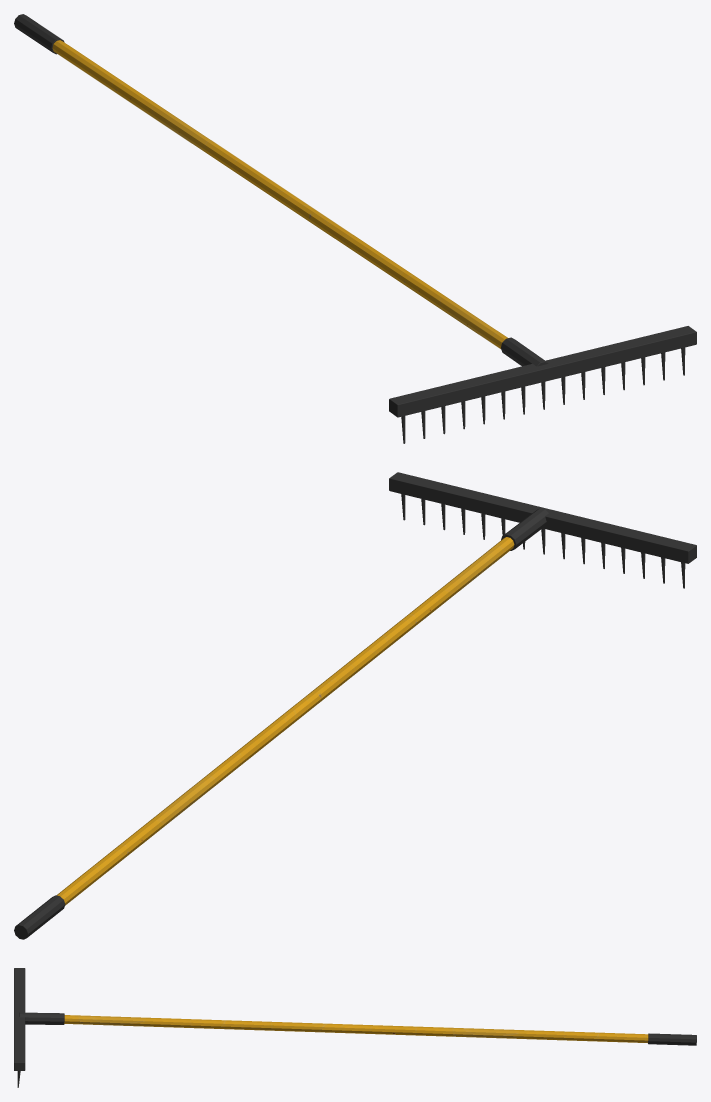
The model's file is rake.glb.
3 views of the same model, one above another, from view 1: azimuth 30°, elevation 25°; view 2: azimuth 150°, elevation 25°; view 3: azimuth 270°, elevation 25° (orthographic). The views are drawn at different scales.
Visible parts, largest first — view 1: X_rake; view 2: X_rake; view 3: X_rake.
Part boxes in pixels (<box>): X_rake: <box>14,14,696,443</box>; X_rake: <box>14,472,696,939</box>; X_rake: <box>14,968,696,1087</box>.
Size of the model in its own units: 0.6 by 0.0934 by 1.83.
Materials: 3 (1 with a texture image).
